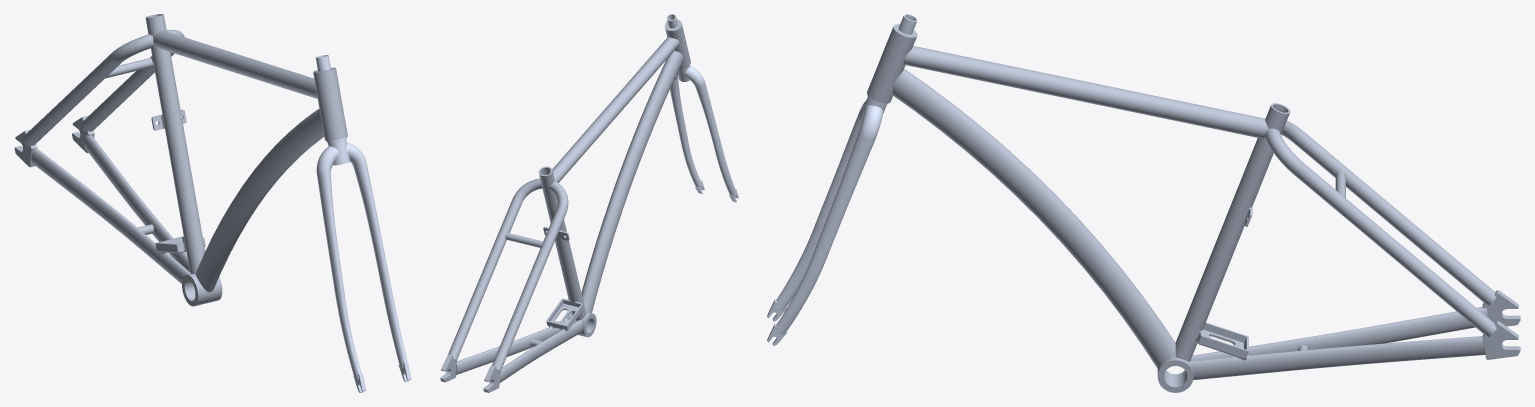
Rendered from AssemblyBIKE.glb.
3 views of the same model, side by side, from view 1: azimuth 30°, elevation 25°; view 2: azimuth 150°, elevation 25°; view 3: azimuth 270°, elevation 25° (orthographic). The views are drawn at different scales.
Visible parts, largest first — view 1: FRAME.STEP-1, FORK.STEP-1; view 2: FRAME.STEP-1, FORK.STEP-1; view 3: FRAME.STEP-1, FORK.STEP-1.
Boxes of the visible parts, bbox=[...] form: FRAME.STEP-1: bbox=[14, 14, 347, 306]; FORK.STEP-1: bbox=[315, 55, 411, 392]; FRAME.STEP-1: bbox=[440, 19, 690, 392]; FORK.STEP-1: bbox=[666, 14, 738, 202]; FRAME.STEP-1: bbox=[867, 24, 1520, 392]; FORK.STEP-1: bbox=[767, 14, 917, 345].
Size of the model in its own units: 0.175 by 0.7948 by 1.46.
